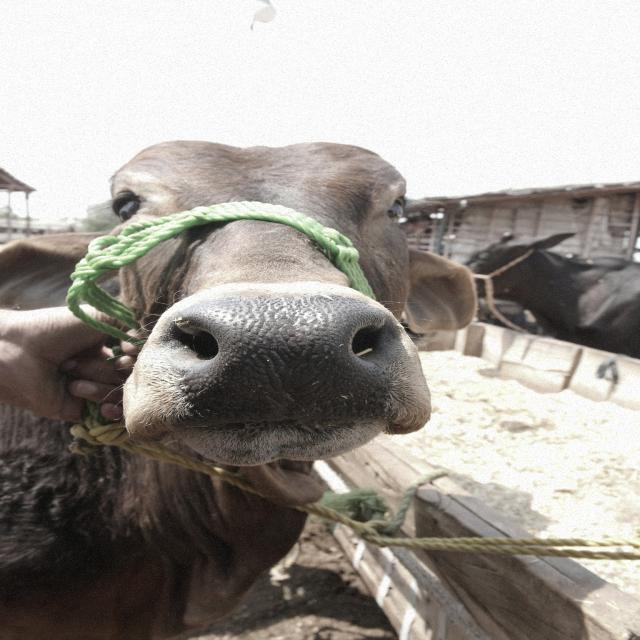muzzles: (126, 286, 414, 436)
